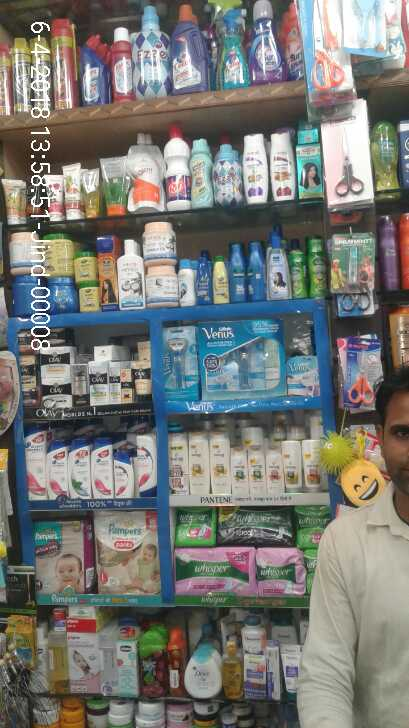venus: (200, 317, 285, 399), (163, 326, 200, 399), (286, 355, 320, 400)
